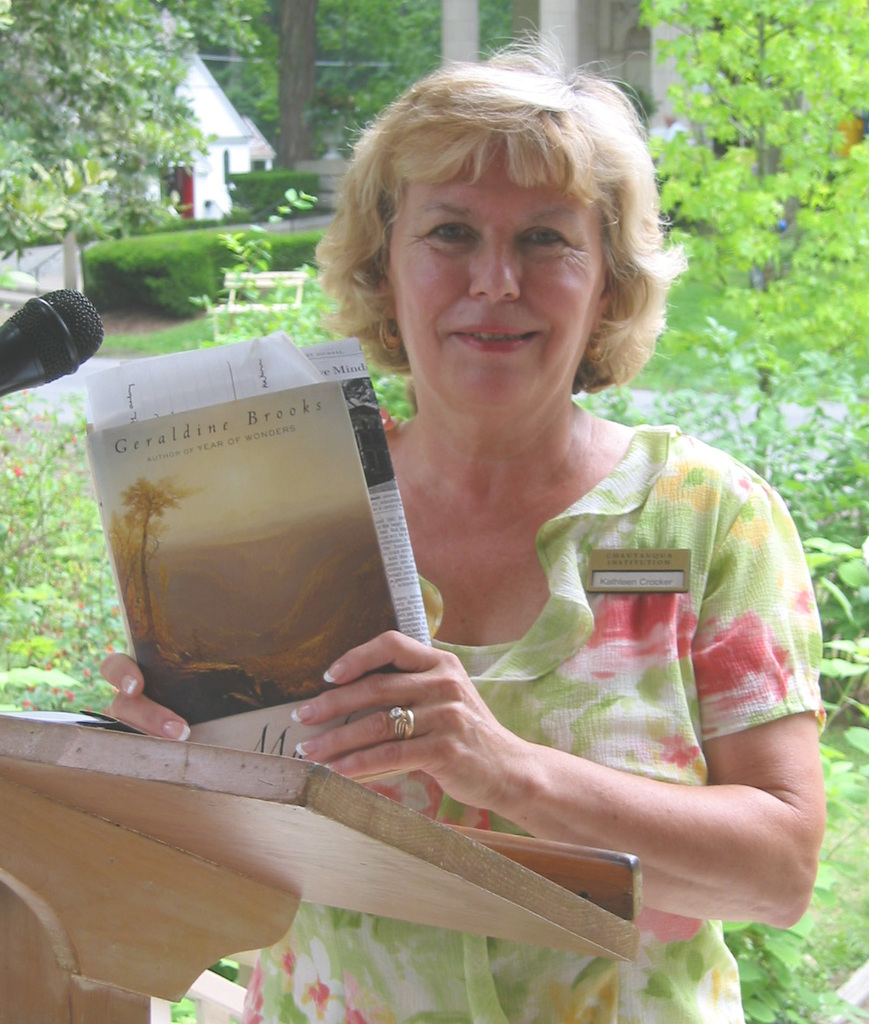Tree: (641, 0, 868, 494), (0, 0, 629, 176), (21, 28, 240, 233)
